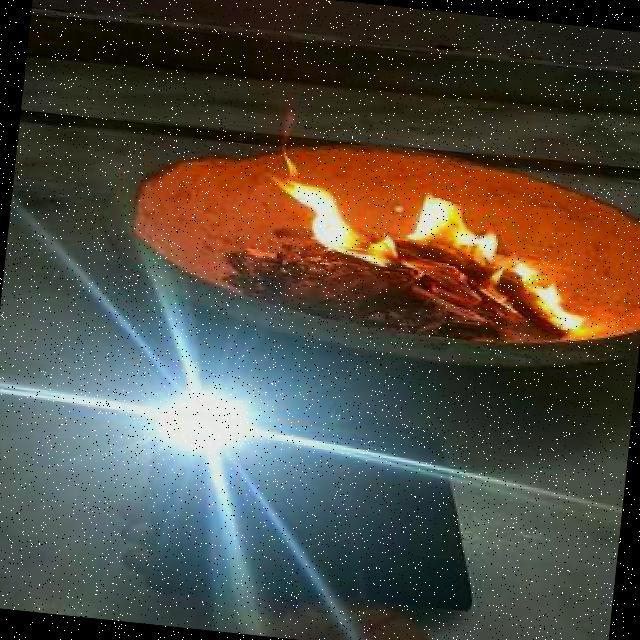Fire: (245, 155, 607, 345)
